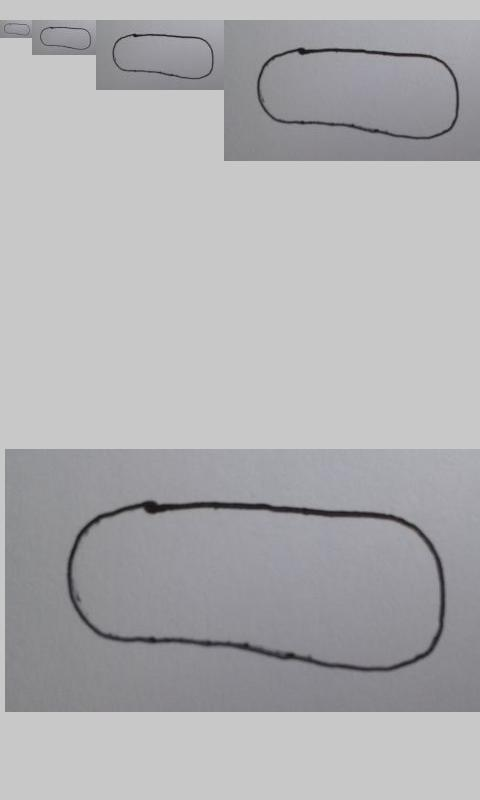chip: (66, 500, 446, 674), (256, 47, 460, 140), (112, 33, 214, 80), (39, 26, 92, 51), (3, 23, 31, 36)
